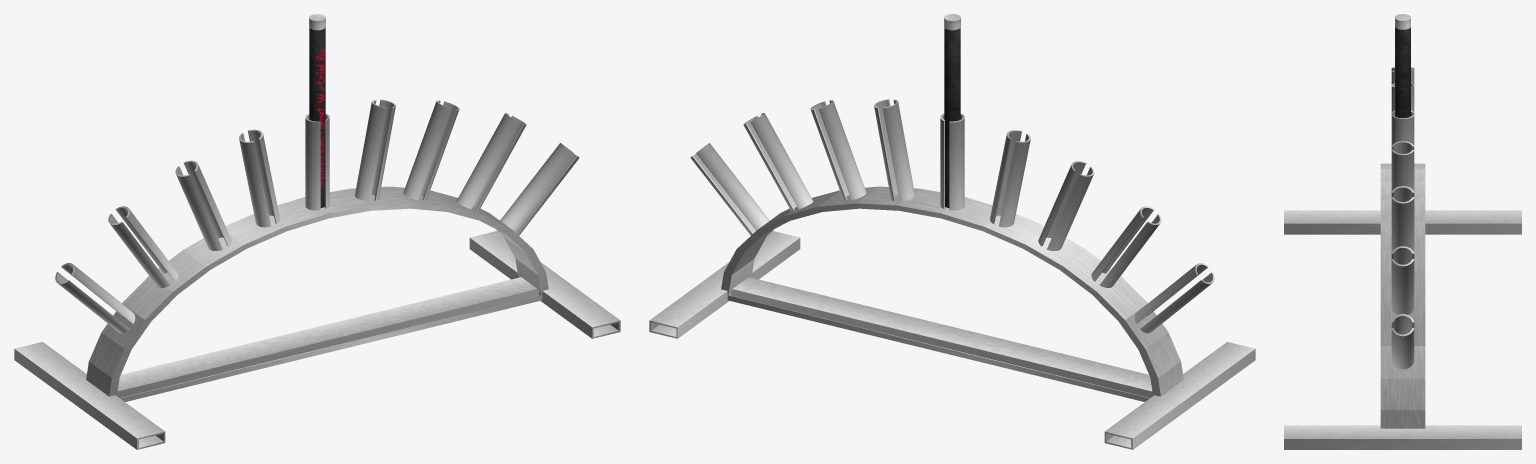
Rendered from 40mmRack9s.fbx.
The picture shows the model from 3 angles, left to right: view 1: azimuth 30°, elevation 25°; view 2: azimuth 150°, elevation 25°; view 3: azimuth 270°, elevation 25°; orthographic projection. The views are drawn at different scales.
Parts seen in each view (by area): view 1: Arc, Arc Bottom, Support Leg.001, Support Leg, 40mm Candle Holder.003, 40mm Candle Holder.002, 40mm Candle Holder.001, 40mm Candle Holder.004, 40mm Candle Holder.008, 40mm Candle Holder.007, 40mm Candle Holder.006, 40mmCandle (+2 smaller); view 2: Arc, Arc Bottom, Support Leg.001, Support Leg, 40mm Candle Holder.003, 40mm Candle Holder.002, 40mm Candle Holder.001, 40mm Candle Holder.004, 40mm Candle Holder.008, 40mm Candle Holder.007, 40mm Candle Holder.006, 40mmCandle (+2 smaller); view 3: Arc, Support Leg, Support Leg.001, 40mm Candle Holder.003, 40mm Candle Holder.002, 40mmCandle, 40mm Candle Holder.004, 40mm Candle Holder.001, 40mm Candle Holder.
Part boxes in pixels (x1,y1,x2,y2): Arc: (86, 186, 548, 401); Arc Bottom: (117, 277, 538, 397); Support Leg.001: (14, 342, 165, 449); Support Leg: (469, 231, 620, 338); 40mm Candle Holder.003: (456, 113, 526, 210); 40mm Candle Holder.002: (403, 100, 459, 200); 40mm Candle Holder.001: (355, 99, 395, 201); 40mm Candle Holder.004: (500, 143, 579, 235); 40mm Candle Holder.008: (239, 129, 279, 227); 40mm Candle Holder.007: (175, 160, 231, 250); 40mm Candle Holder.006: (108, 206, 178, 287); 40mmCandle: (309, 28, 325, 207); Arc: (721, 186, 1183, 401); Arc Bottom: (731, 277, 1152, 397); Support Leg.001: (1104, 342, 1255, 449); Support Leg: (649, 231, 800, 338); 40mm Candle Holder.003: (743, 113, 813, 210); 40mm Candle Holder.002: (810, 100, 866, 200); 40mm Candle Holder.001: (874, 99, 914, 201); 40mm Candle Holder.004: (690, 143, 769, 235); 40mm Candle Holder.008: (990, 129, 1030, 227); 40mm Candle Holder.007: (1038, 160, 1094, 250); 40mm Candle Holder.006: (1091, 206, 1161, 287); 40mmCandle: (944, 28, 960, 207); Arc: (1380, 163, 1425, 428); Support Leg: (1284, 425, 1521, 449); Support Leg.001: (1284, 210, 1521, 234); 40mm Candle Holder.003: (1391, 246, 1414, 314); 40mm Candle Holder.002: (1391, 186, 1414, 252); 40mmCandle: (1395, 27, 1410, 118); 40mm Candle Holder.004: (1391, 314, 1414, 369); 40mm Candle Holder.001: (1391, 141, 1414, 191); 40mm Candle Holder: (1391, 110, 1414, 145).
Bounding box in the file's own units: 294 × 177 × 120.
